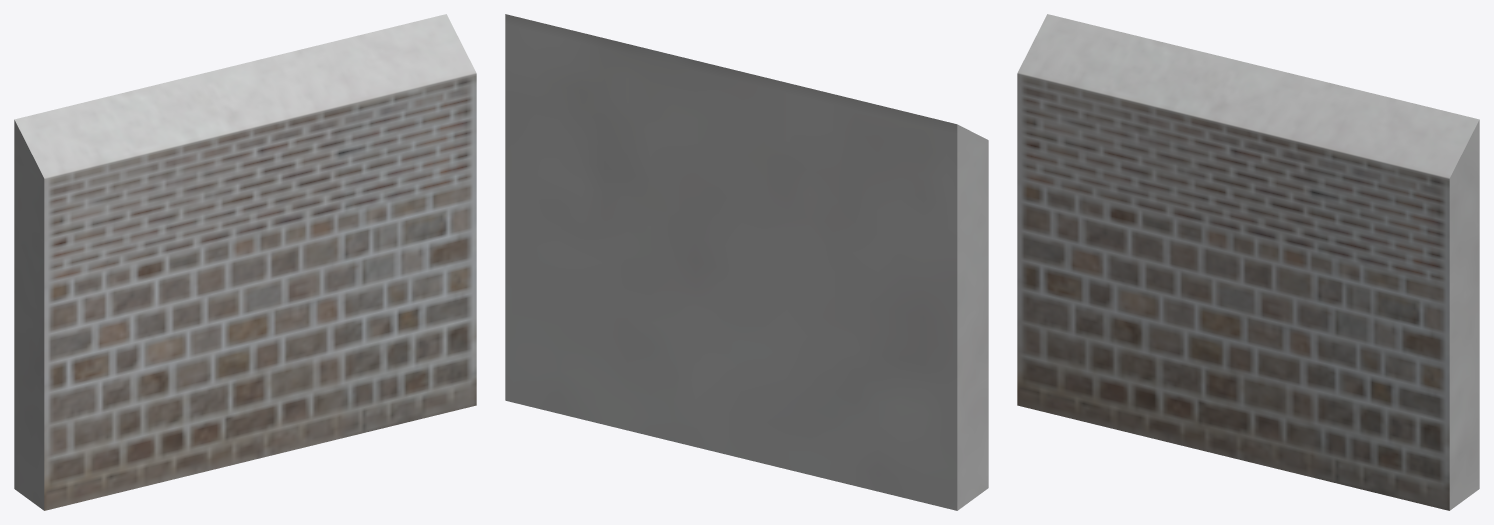
Rendered from Wall.gltf.
3 renders of one model, left to right at view 1: azimuth 30°, elevation 25°; view 2: azimuth 150°, elevation 25°; view 3: azimuth 330°, elevation 25°, orthographic. The views are drawn at different scales.
Parts seen in each view (by area): view 1: SM_GJJ_HG_Wall01A; view 2: SM_GJJ_HG_Wall01A; view 3: SM_GJJ_HG_Wall01A.
Part boxes in pixels (bbox=[...]): SM_GJJ_HG_Wall01A: bbox=[14, 14, 476, 510]; SM_GJJ_HG_Wall01A: bbox=[505, 14, 988, 510]; SM_GJJ_HG_Wall01A: bbox=[1017, 14, 1479, 510].
Bounding box in the file's own units: 2.37 × 1.94 × 0.2847.
Materials: 1 (1 with a texture image).
